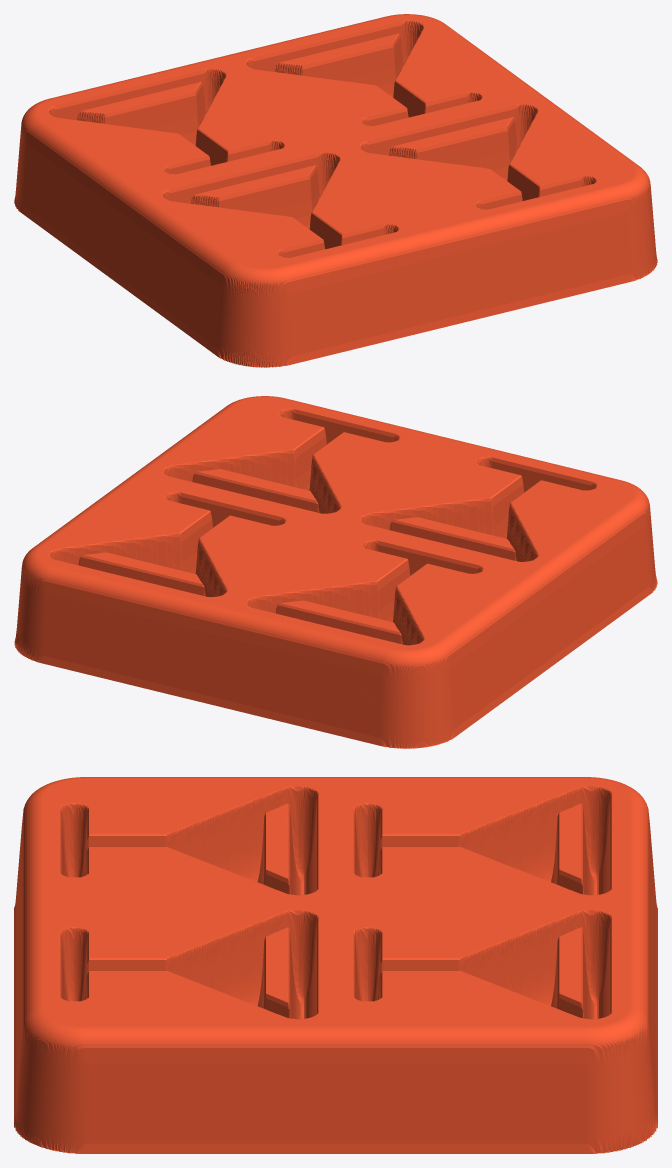
Rendered from mold.glb.
3 renders of one model, top to bottom at view 1: azimuth 30°, elevation 25°; view 2: azimuth 150°, elevation 25°; view 3: azimuth 270°, elevation 25°, orthographic. The views are drawn at different scales.
Visible parts, largest first — view 1: geometry_0; view 2: geometry_0; view 3: geometry_0.
Boxes of the visible parts, x1,y1,x2,y2 form: geometry_0: (14,14,657,367); geometry_0: (14,396,657,748); geometry_0: (14,777,657,1153).
Bounding box in the file's own units: 0.0808 × 0.0159 × 0.0808.
